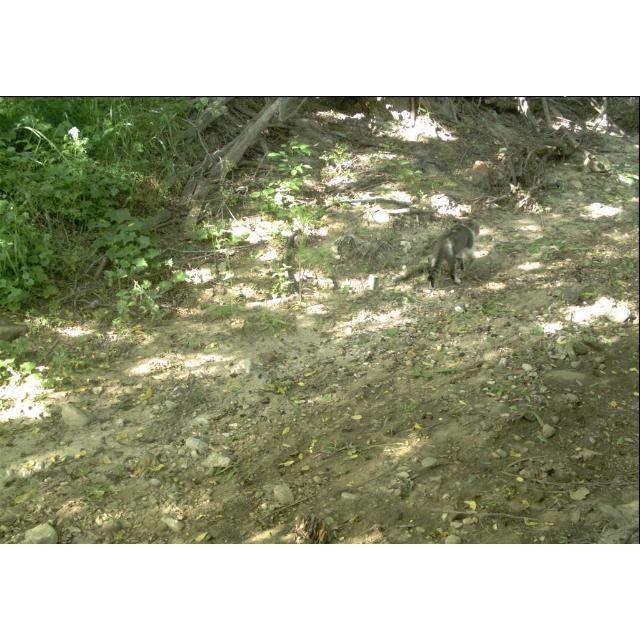animals: (398, 216, 484, 290)
